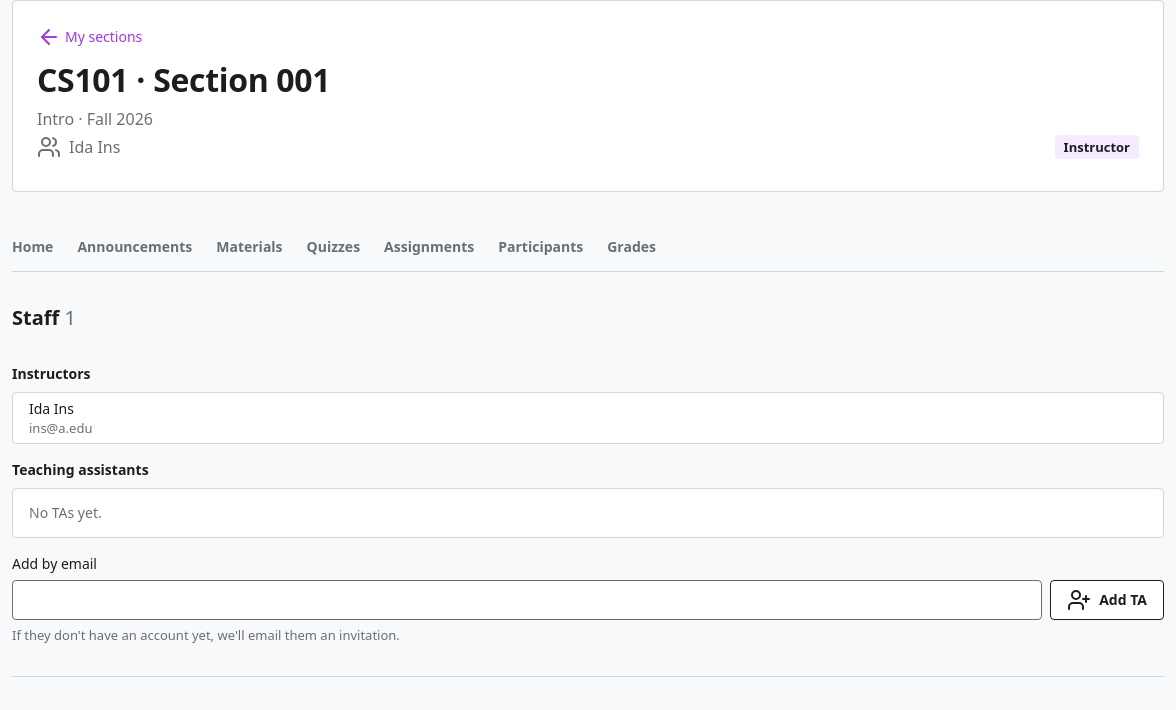
Scenario: shows the invitation notice and the pending row on 202
This screenshot has width=1176, height=710.
Type "new@a.edu" into the field labelled "Add by email" at (527, 600), box [12,580,1042,620]
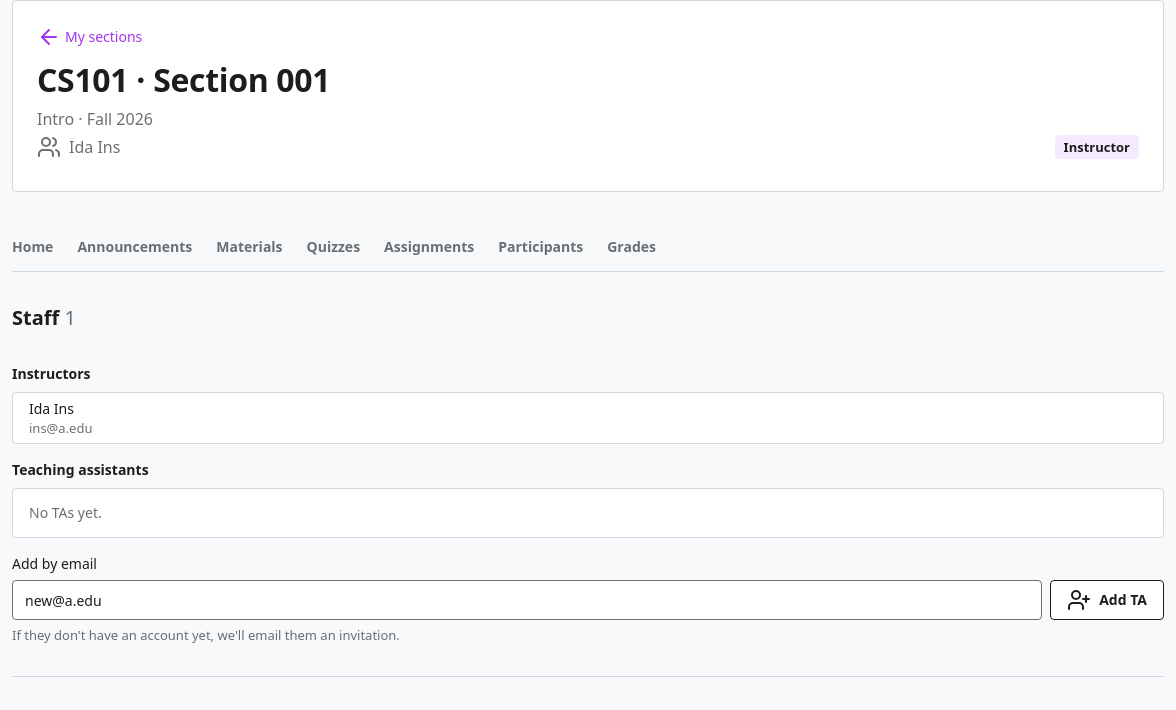
Click the button "Add TA" at (1107, 600), box [1050,580,1164,620]
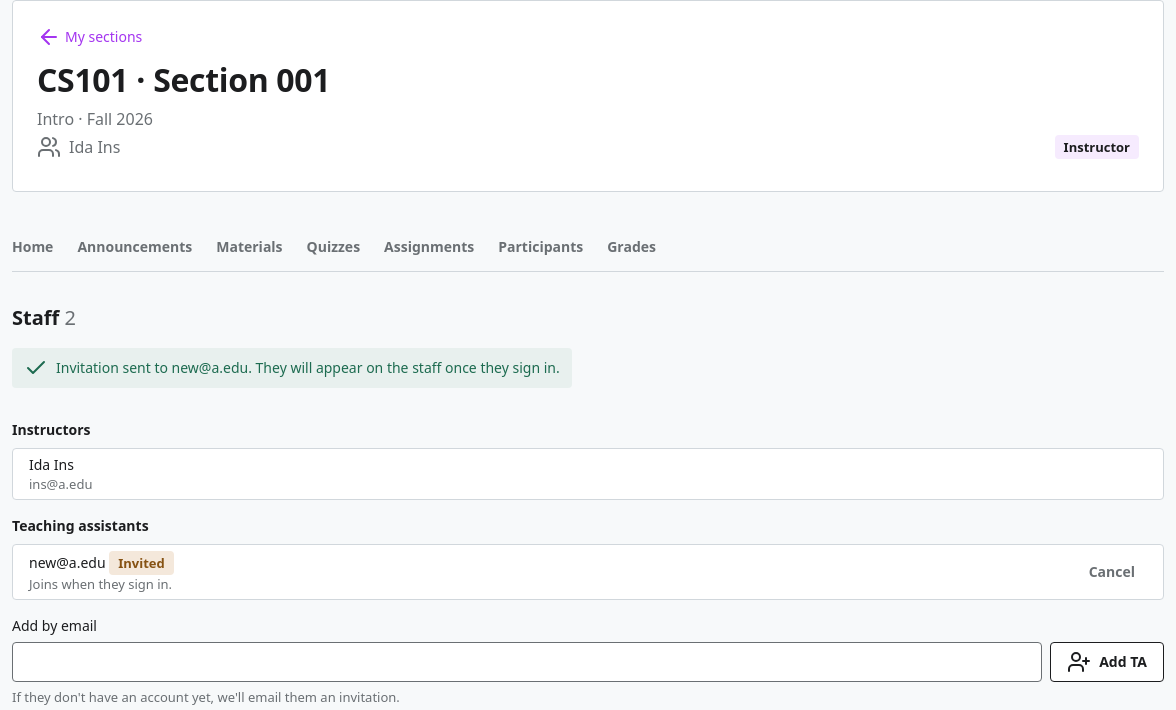
Expected: the text "Invitation sent to new@a.edu. They will appear on the staff once they sign in." is shown, [12,348,572,388]
Expected: the text "Invited" is shown, [109,551,174,575]
Expected: the button with aria-label "Cancel invitation for new@a.edu" is shown, [1077,556,1147,588]
